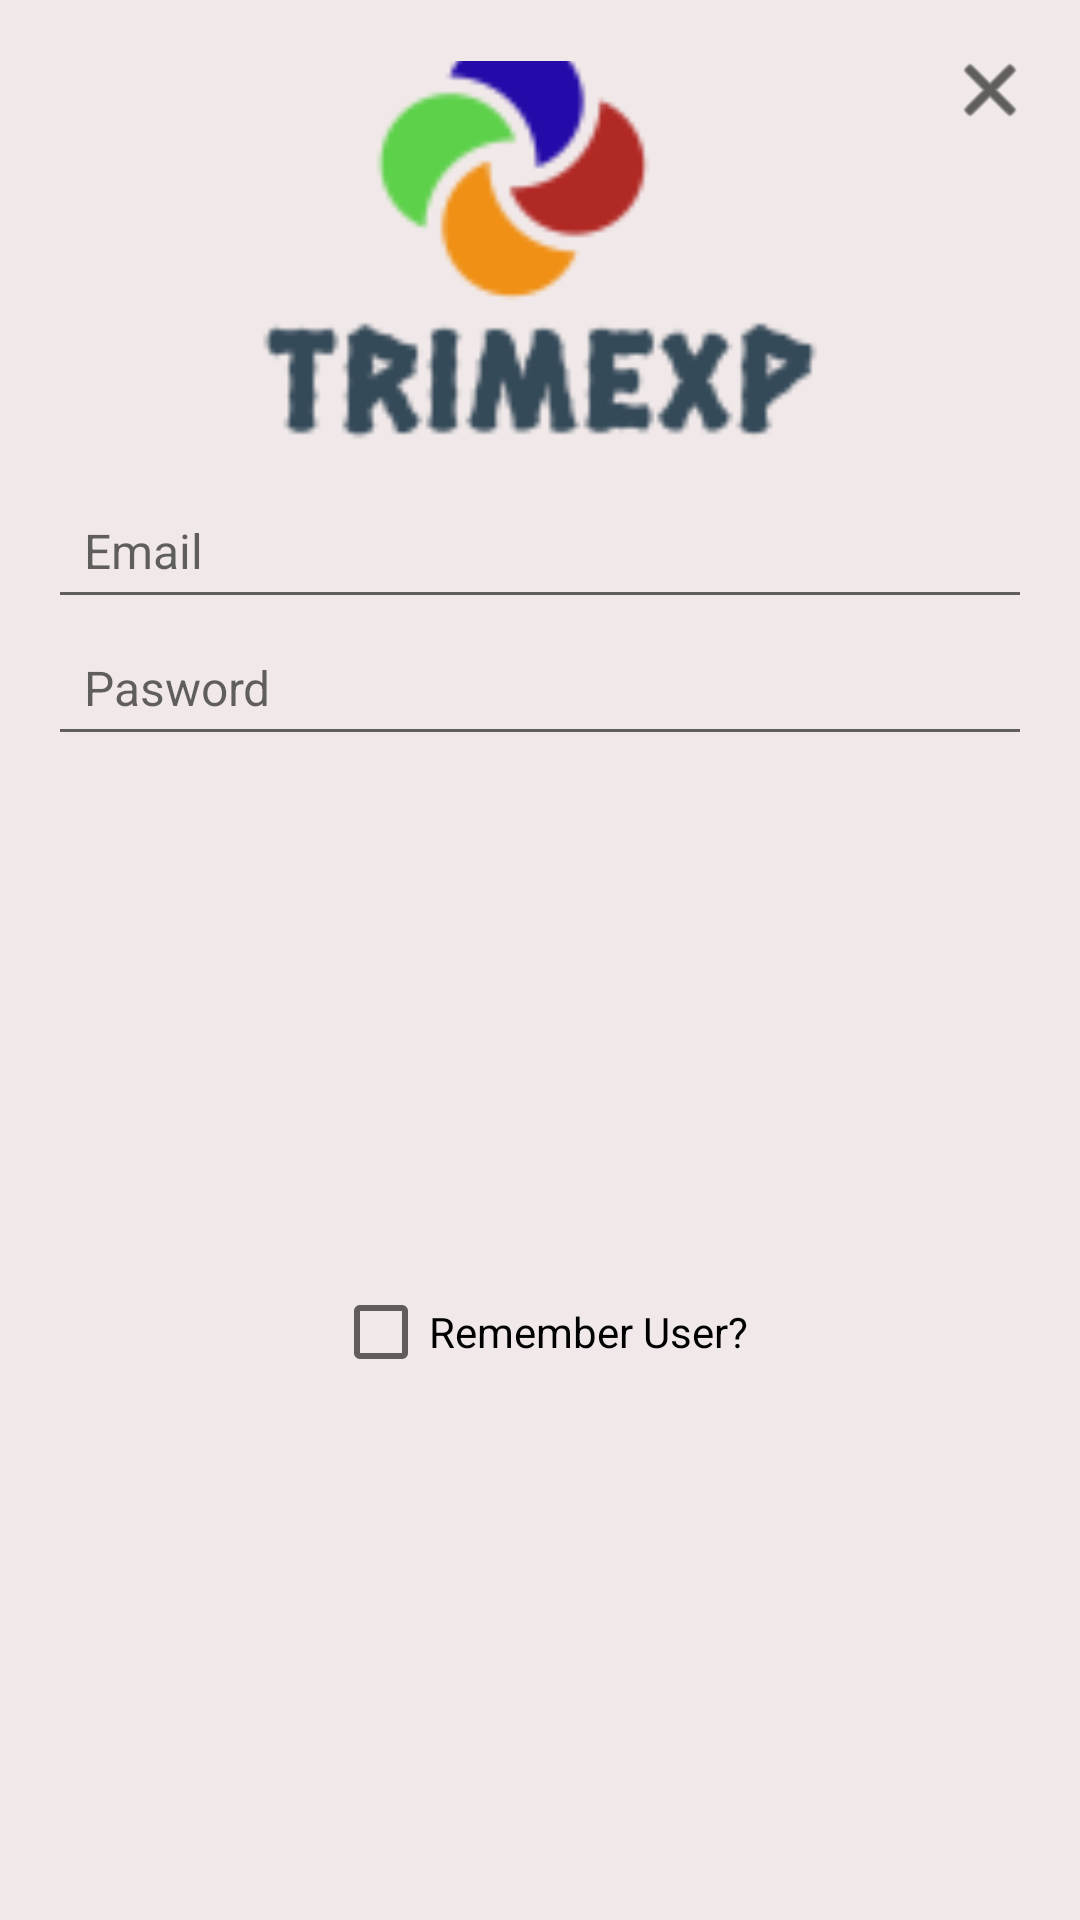

Screen size 1080*1920. Icon name, then its box in pixels as (x1, y1, x2, y2):
close clear cancel: (964, 64, 1016, 116)
